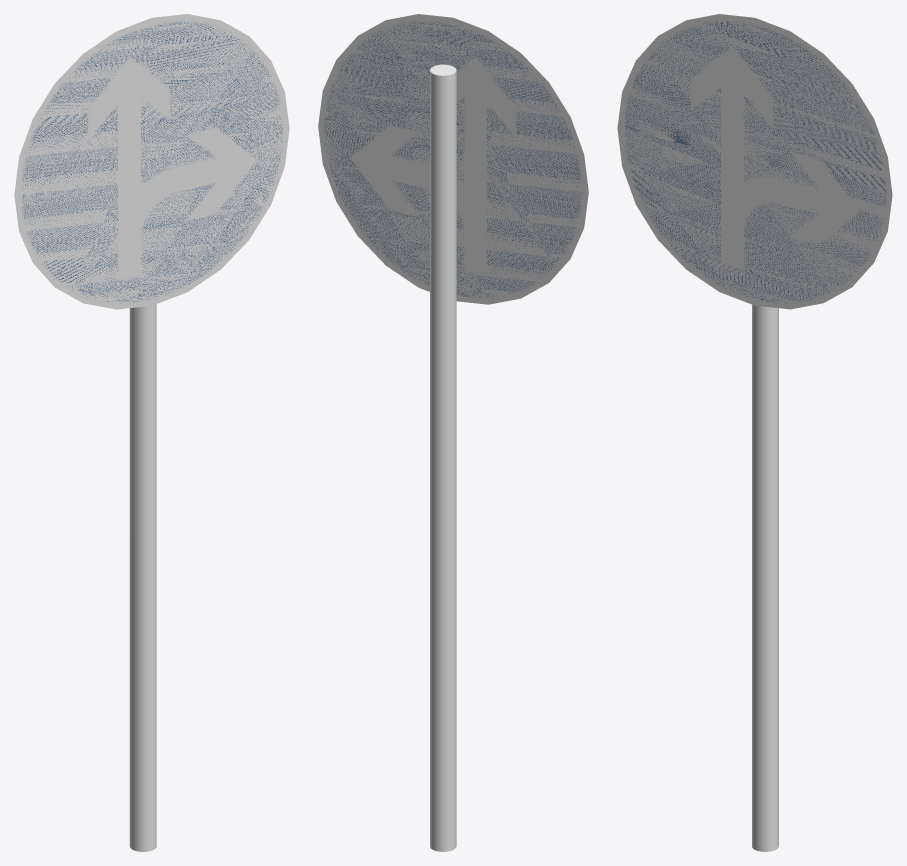
The picture shows the model from 3 angles, left to right: view 1: azimuth 30°, elevation 25°; view 2: azimuth 150°, elevation 25°; view 3: azimuth 330°, elevation 25°; orthographic projection.
Visible parts, largest first — view 1: SketchUp (×2); view 2: SketchUp (×2); view 3: SketchUp (×2).
Part boxes in pixels (x1=…): SketchUp (×2): x1=14, y1=14, x2=289, y2=851; SketchUp (×2): x1=318, y1=14, x2=588, y2=851; SketchUp (×2): x1=617, y1=14, x2=892, y2=851.
Size of the model in its own units: 74.02 by 7.6 by 215.
2 materials, 1 textured.
